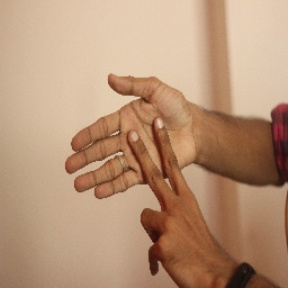N: (55, 69, 216, 267)
